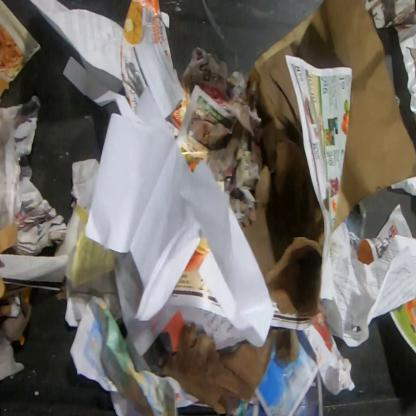cardboard: (242, 0, 415, 316), (158, 320, 301, 415), (0, 224, 69, 319)
